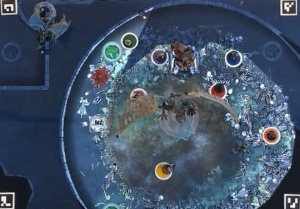blue: (223, 47, 246, 68)
green: (120, 30, 141, 50)
orange: (261, 122, 283, 148)
pink: (127, 85, 150, 106)
red: (209, 81, 232, 102)
violet: (148, 47, 171, 67)
yellow: (154, 160, 176, 181)
